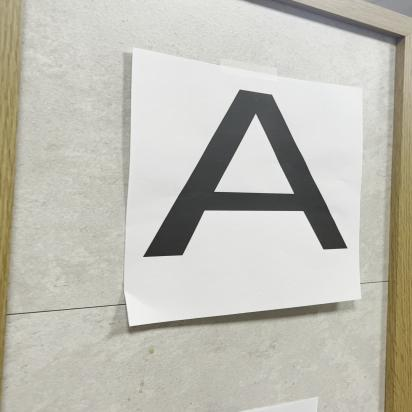seat: (135, 84, 359, 285)
